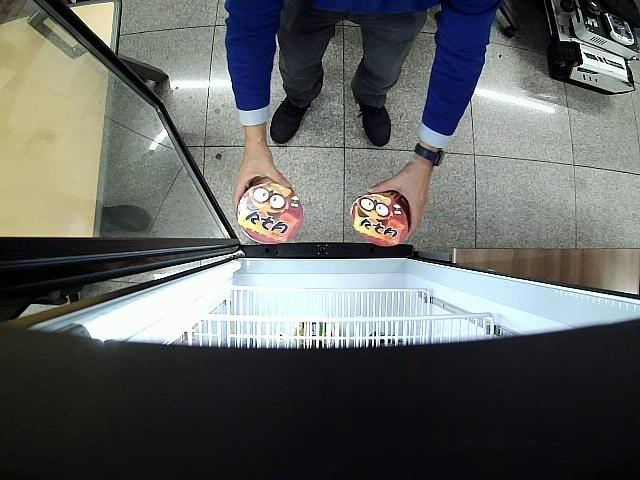05_nuguri_L: (237, 176, 304, 244), (350, 189, 410, 246)
